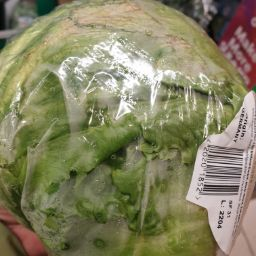Lettuce: (3, 4, 193, 252), (29, 56, 184, 253), (40, 19, 231, 127)
